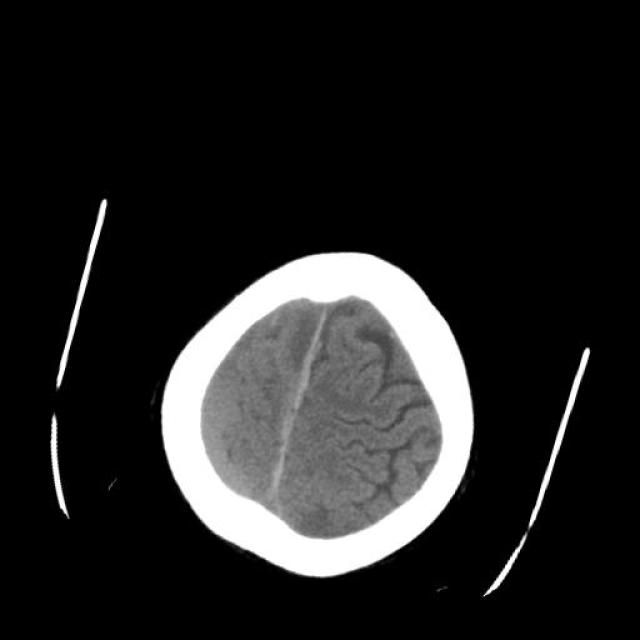Subdural: (216, 292, 362, 542)
